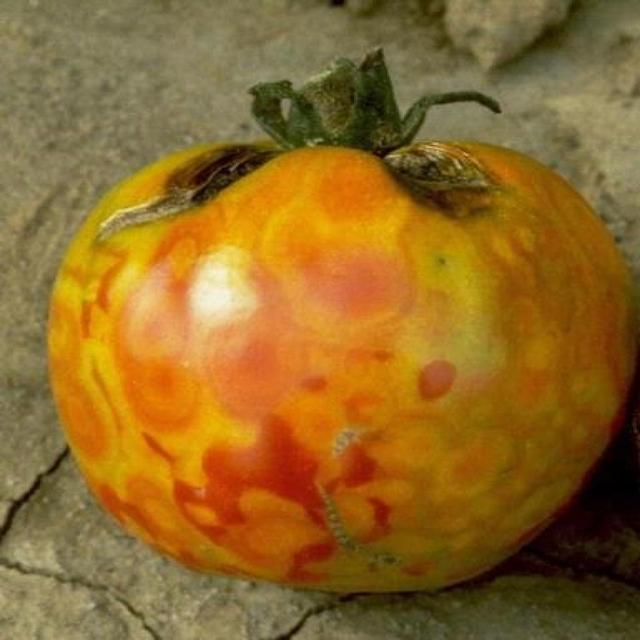Spotted wilt Virus Fruit: (27, 90, 425, 396)
